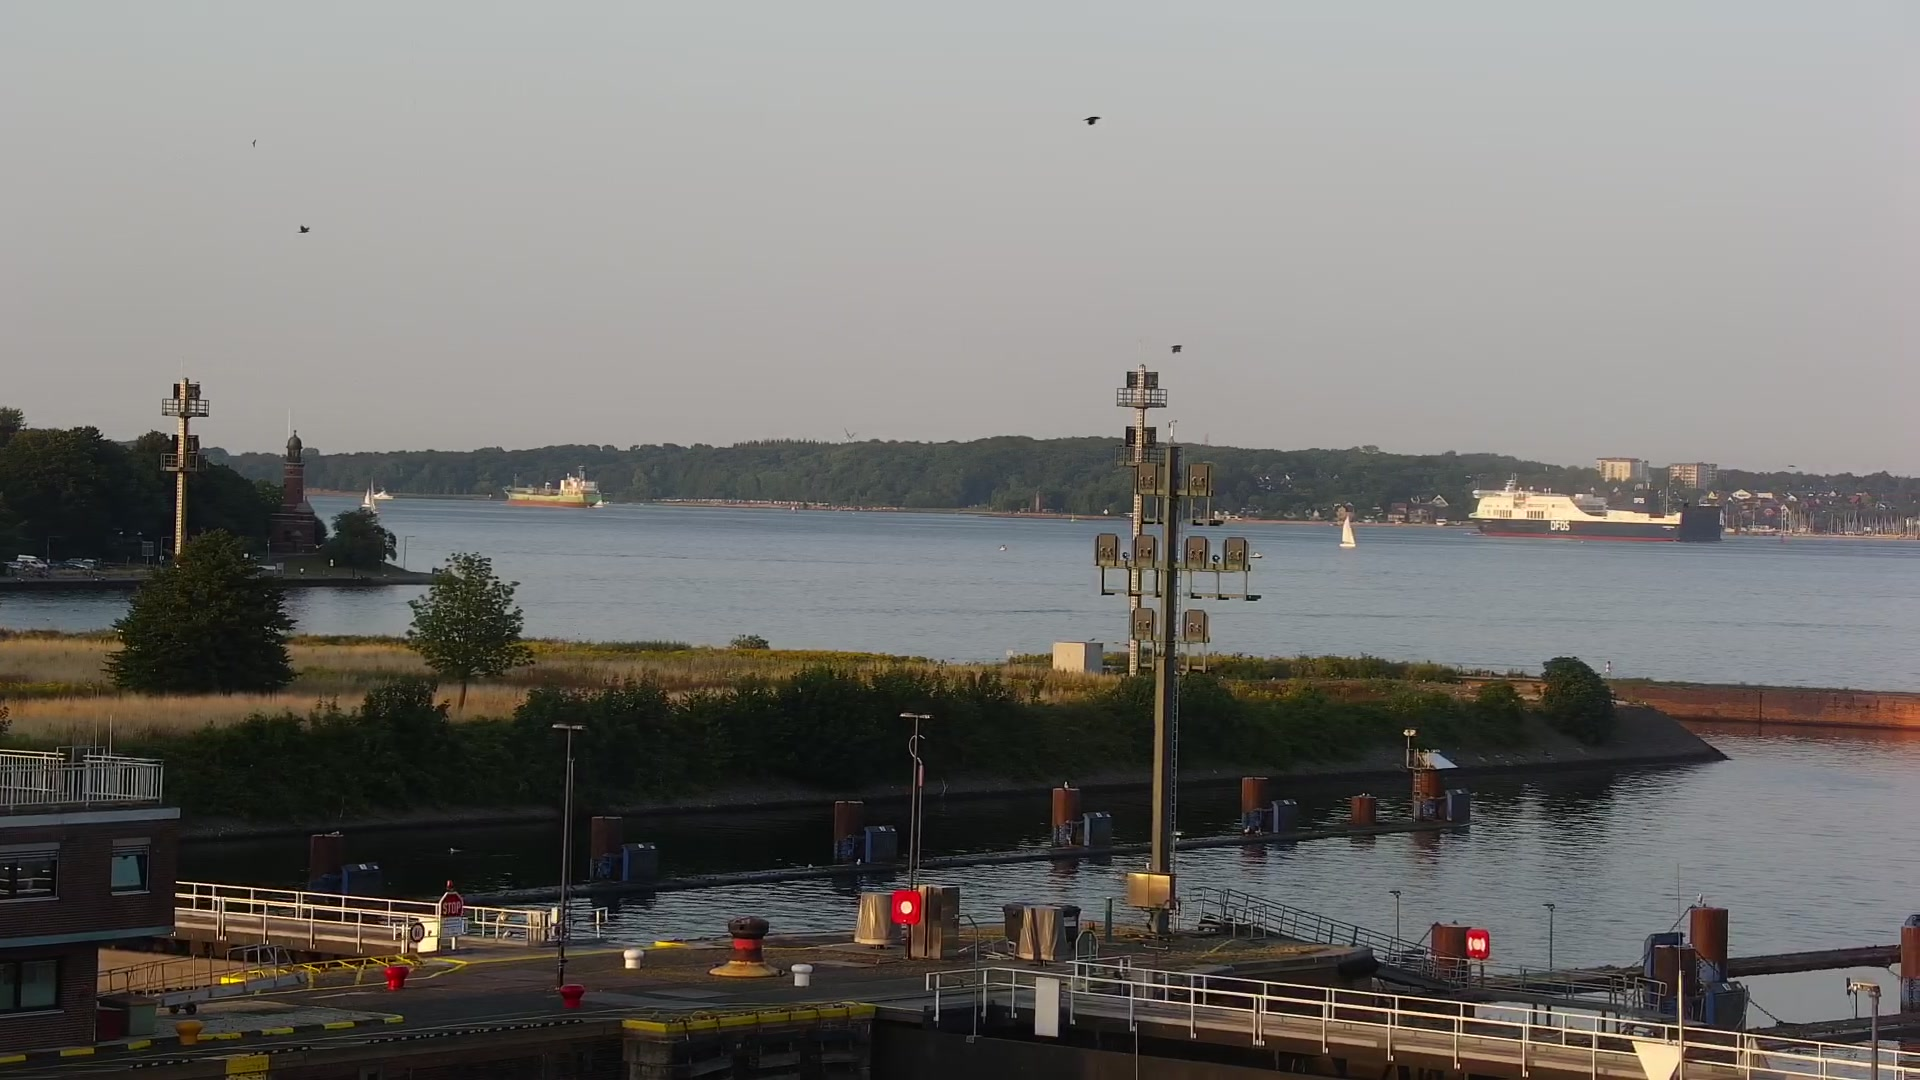land: (16, 553, 47, 570), (59, 560, 88, 571), (1, 560, 22, 572), (80, 556, 98, 570)
sea: (1466, 469, 1724, 543), (502, 463, 603, 506), (1733, 506, 1779, 535), (1338, 513, 1358, 549), (371, 487, 396, 498), (361, 487, 375, 506), (1251, 551, 1263, 556), (1000, 545, 1007, 551), (1069, 510, 1073, 522)
